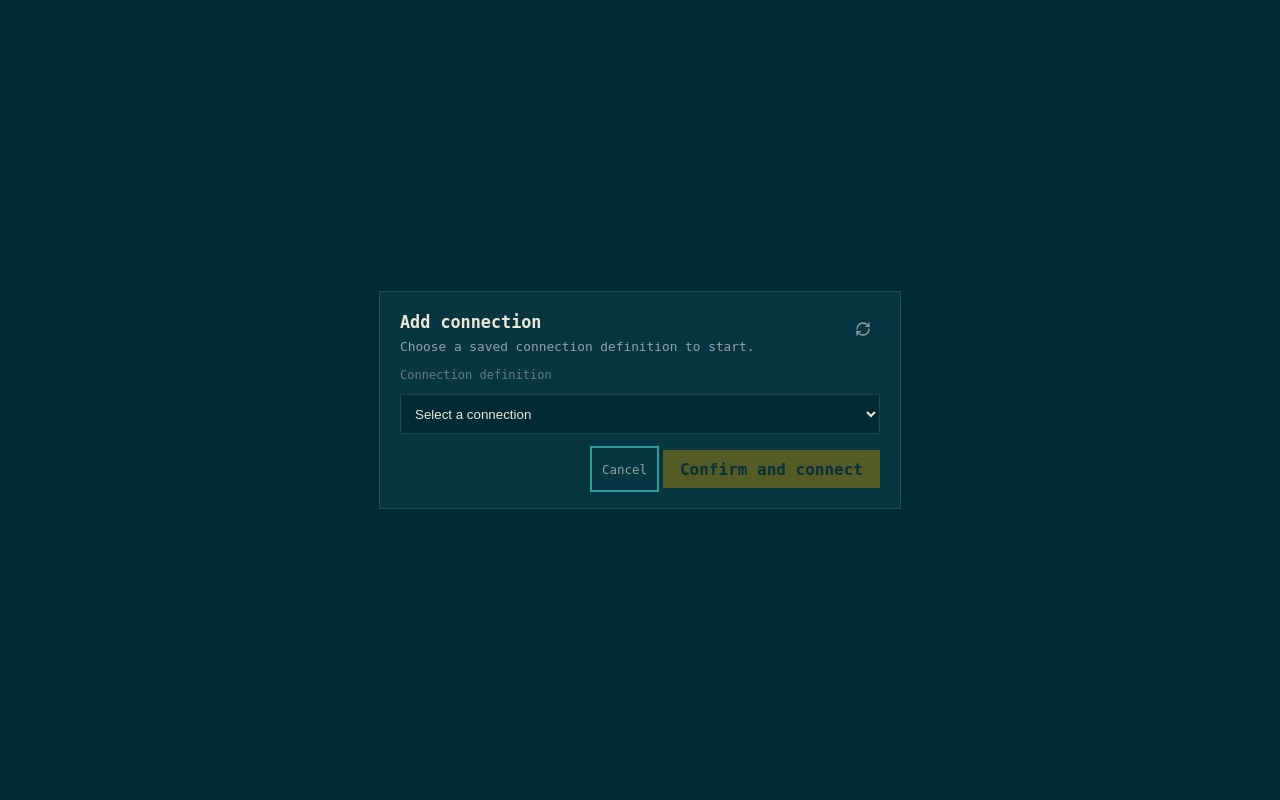
Test: AddConnectionDialog › keeps the dialog open when connection creation fails
Select "Local" in the dropdown labelled "Connection definition" at (640, 414), box [400, 394, 880, 434]
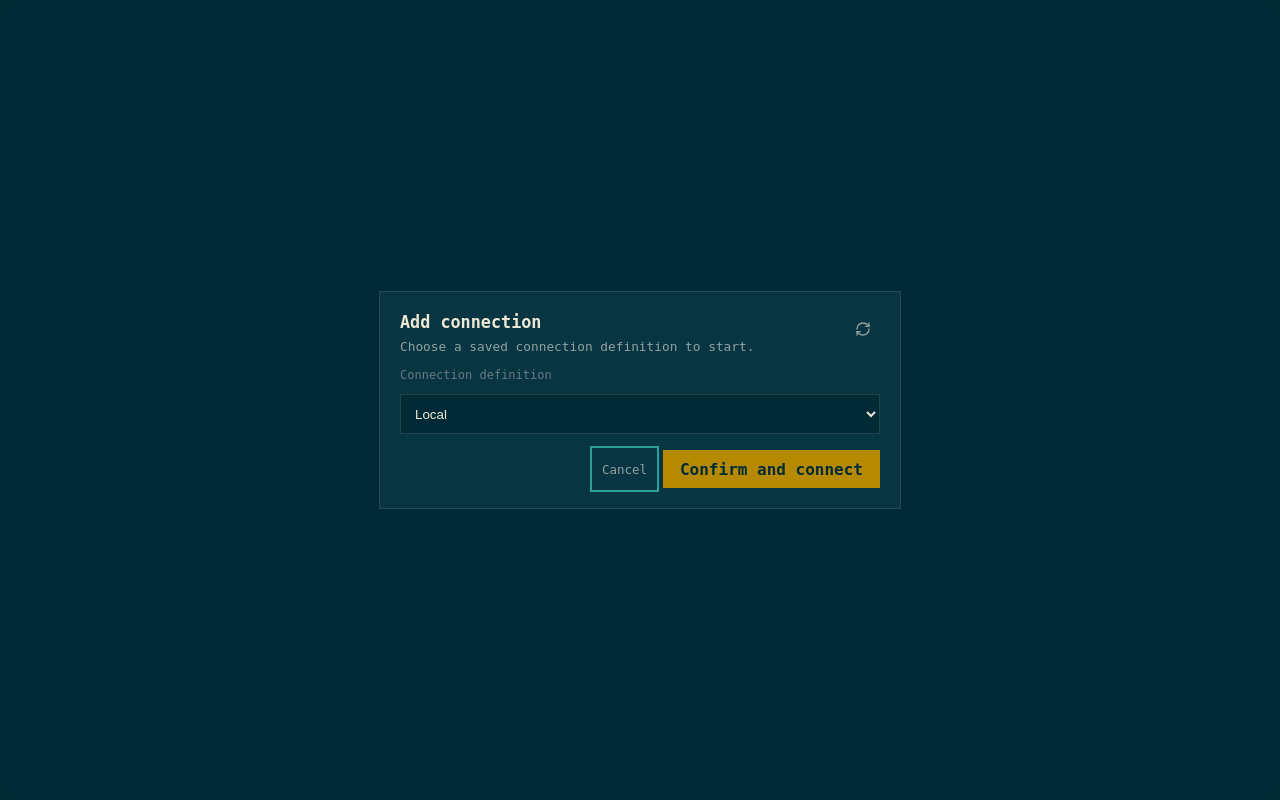
Submit the form, box [400, 312, 880, 488]
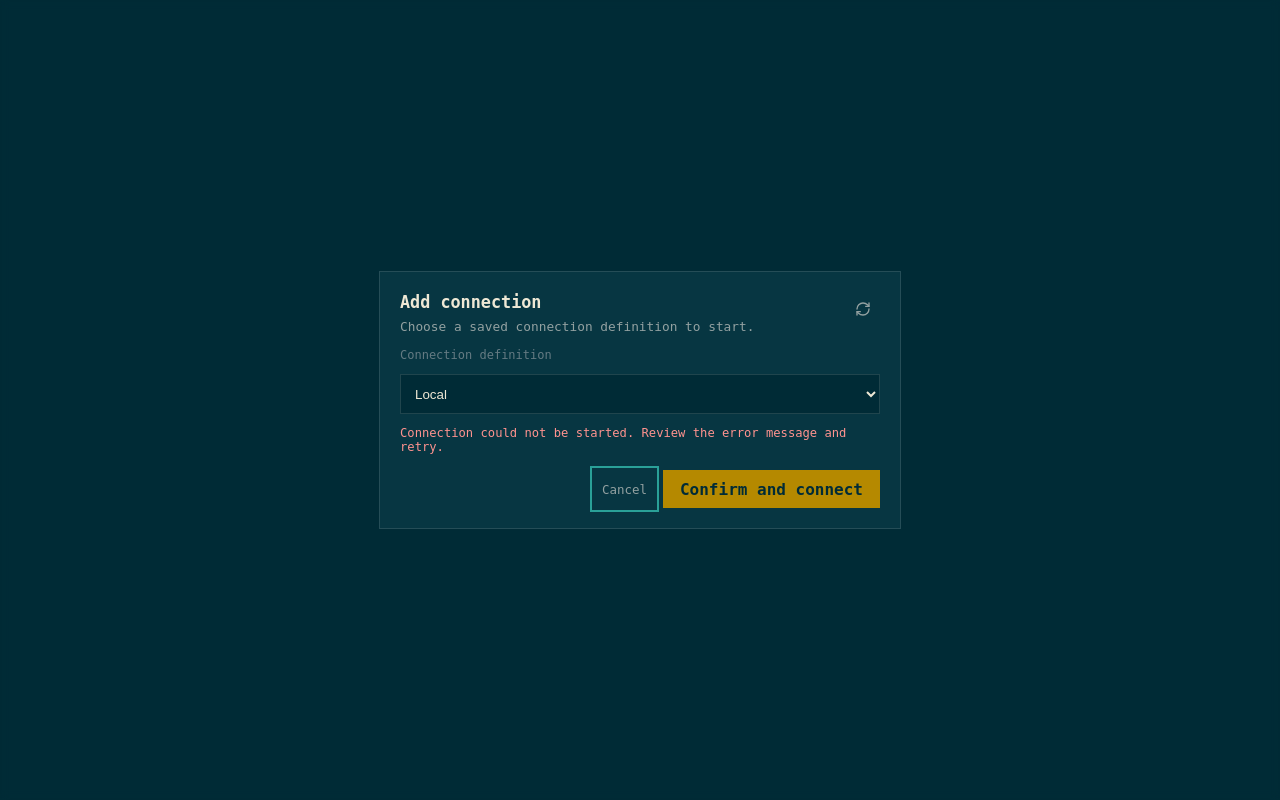
Result: the message "Connection could not be started. Review the error message and retry." is shown at [400, 426, 880, 454]
